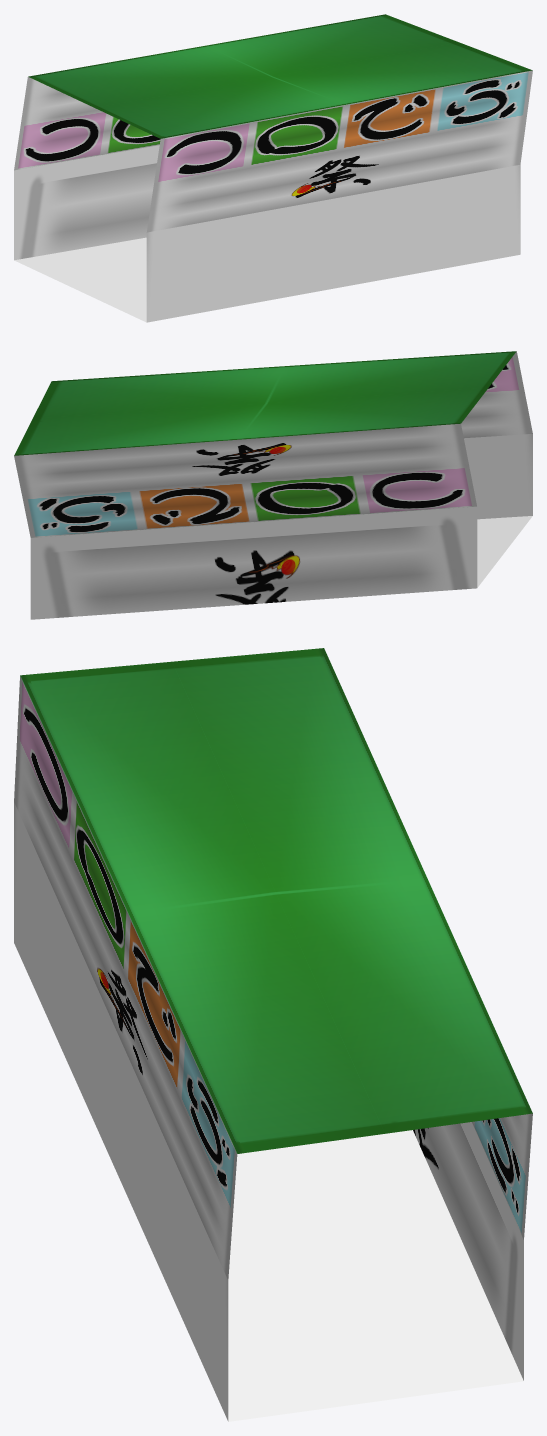
Rendered from CourseAki_Wall_R_4_3.fbx.
3 views of the same model, one above another, from view 1: azimuth 30°, elevation 25°; view 2: azimuth 150°, elevation 25°; view 3: azimuth 270°, elevation 25° (orthographic). The views are drawn at different scales.
Parts seen in each view (by area): view 1: polySurface338; view 2: polySurface338; view 3: polySurface338.
Part boxes in pixels (box(x1,y1,x2,y2)): polySurface338: box(14, 14, 532, 322); polySurface338: box(14, 351, 532, 619); polySurface338: box(14, 648, 532, 1421).
Size of the model in its own units: 5.73 by 2.98 by 3.33.
Materials: 1 (1 with a texture image).
